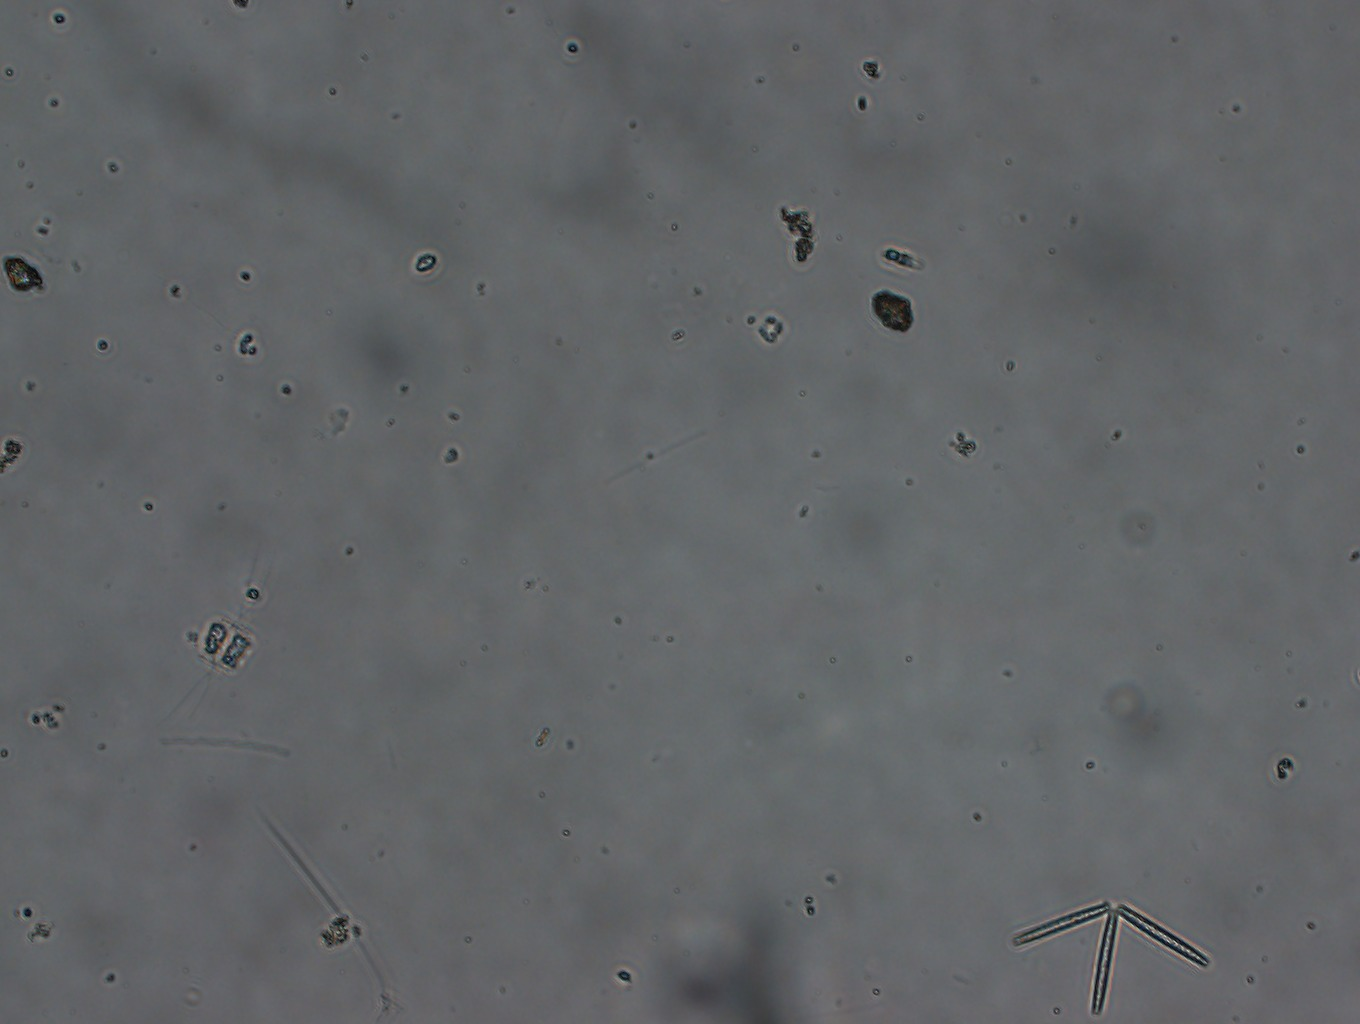thalassionema frauenfeldii: (1008, 895, 1216, 1024)
